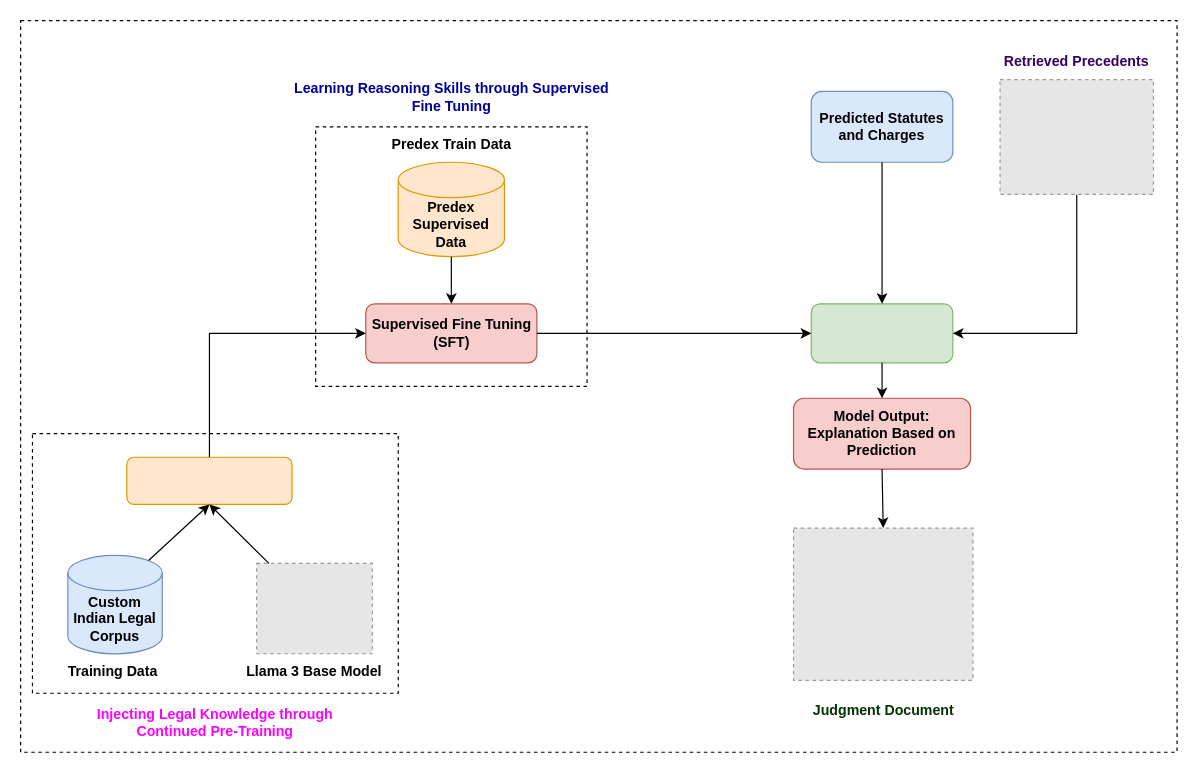
This 1198x773 diagram has some shape labels left out. Grey dashed boxes stand in for pictures. Each missing label, with the box of its shape:
Continued Pre-training (CPT): (126, 456, 292, 504)
JudgEx Model: (810, 303, 953, 363)
